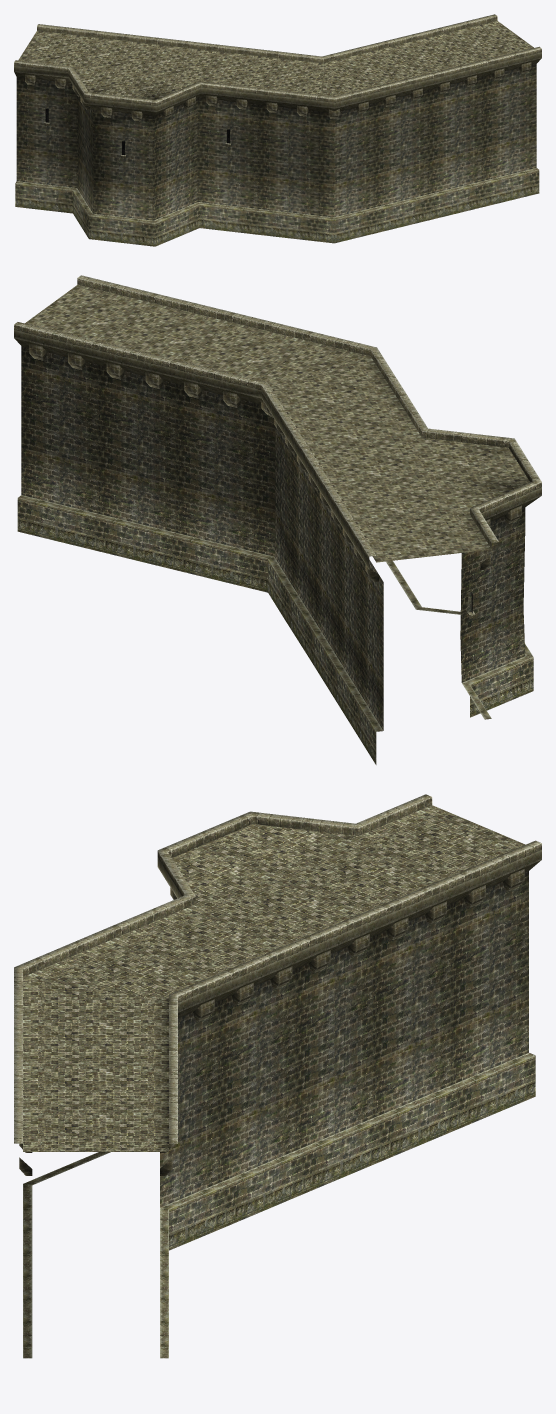
The model's file is OZ_30_kn_castle02D.glb.
The picture shows the model from 3 angles, top to bottom: view 1: azimuth 30°, elevation 25°; view 2: azimuth 150°, elevation 25°; view 3: azimuth 270°, elevation 25°; orthographic projection. The views are drawn at different scales.
Visible parts, largest first — view 1: OM_30_kn_castle02D; view 2: OM_30_kn_castle02D; view 3: OM_30_kn_castle02D.
Part boxes in pixels (x1,y1,x2,y2): OM_30_kn_castle02D: (14, 14, 541, 246); OM_30_kn_castle02D: (14, 275, 541, 764); OM_30_kn_castle02D: (14, 794, 541, 1358).
Size of the model in its own units: 45.34 by 15.5 by 28.95.
3 materials, 3 textured.
